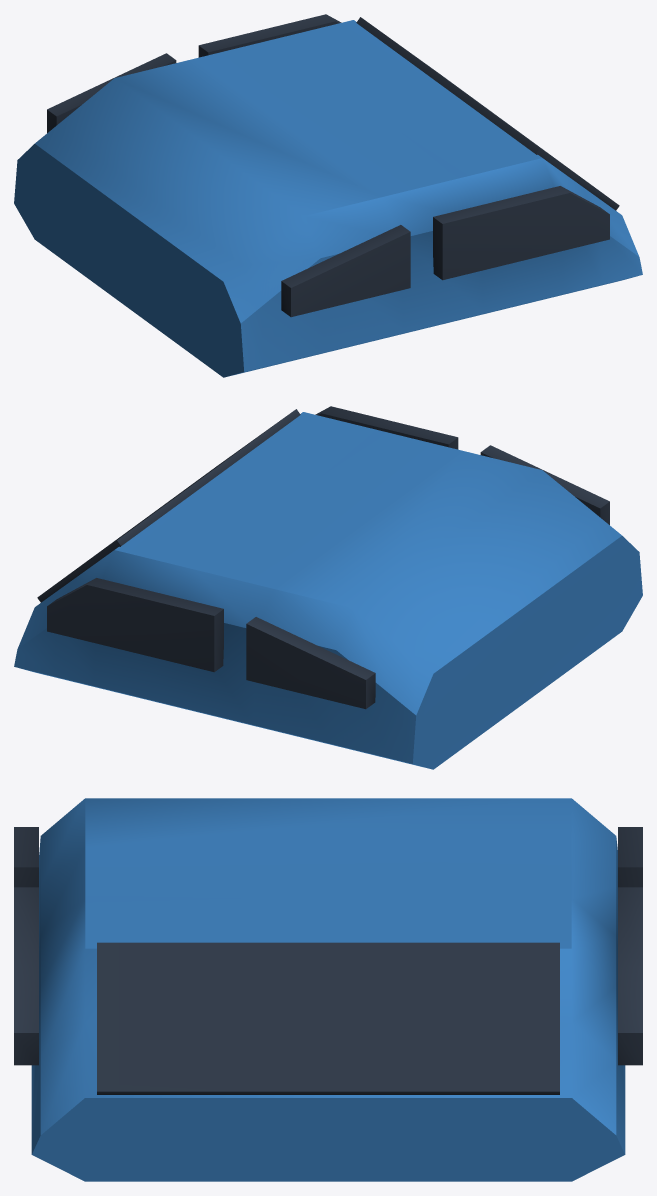
Rendered from cabin-box.glb.
The picture shows the model from 3 angles, top to bottom: view 1: azimuth 30°, elevation 25°; view 2: azimuth 150°, elevation 25°; view 3: azimuth 270°, elevation 25°; orthographic projection. The views are drawn at different scales.
Visible parts, largest first — view 1: body, dark; view 2: body, dark; view 3: body, dark.
Boxes of the visible parts, x1,y1,x2,y2 form: body: [14, 20, 642, 377]; dark: [47, 14, 619, 317]; body: [14, 412, 642, 769]; dark: [37, 406, 609, 709]; body: [31, 798, 625, 1181]; dark: [14, 827, 642, 1094].
Size of the model in its own units: 1.01 by 0.3539 by 1.06.
